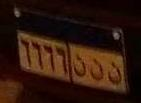6: (19, 37, 31, 68), (56, 46, 68, 76), (43, 44, 55, 72), (31, 40, 42, 69)
noon: (106, 61, 122, 87), (88, 58, 104, 84), (73, 53, 87, 81)
